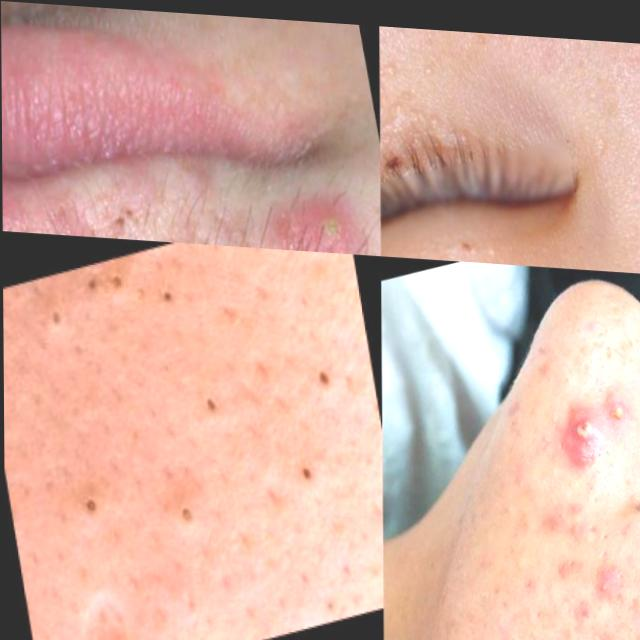7: (379, 70, 461, 142), (378, 20, 426, 114), (379, 86, 411, 161), (576, 105, 624, 154), (476, 212, 518, 257)
8: (41, 2, 113, 32)
9: (584, 558, 624, 604), (604, 377, 632, 426)
blackheads: (48, 554, 167, 640), (550, 378, 618, 468)
dark spot: (258, 404, 363, 530), (36, 251, 141, 351), (59, 449, 129, 541), (286, 320, 340, 425), (182, 366, 238, 446), (149, 240, 186, 319), (166, 484, 201, 534)
whiteheads: (303, 175, 379, 250)
